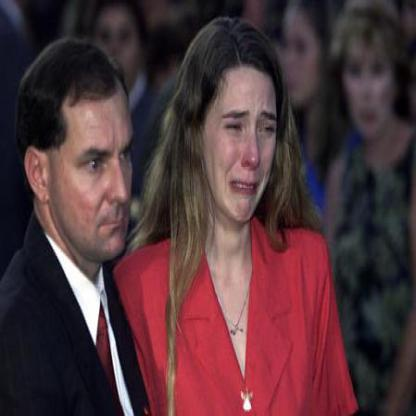face: (44, 49, 141, 269), (203, 39, 282, 227), (345, 13, 395, 138), (276, 1, 324, 108), (89, 1, 141, 97)
